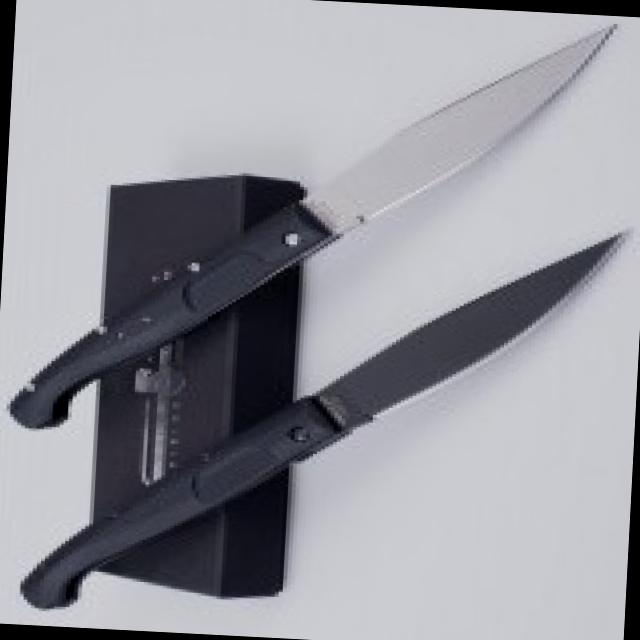knife: (290, 1, 639, 249), (314, 217, 630, 442)
